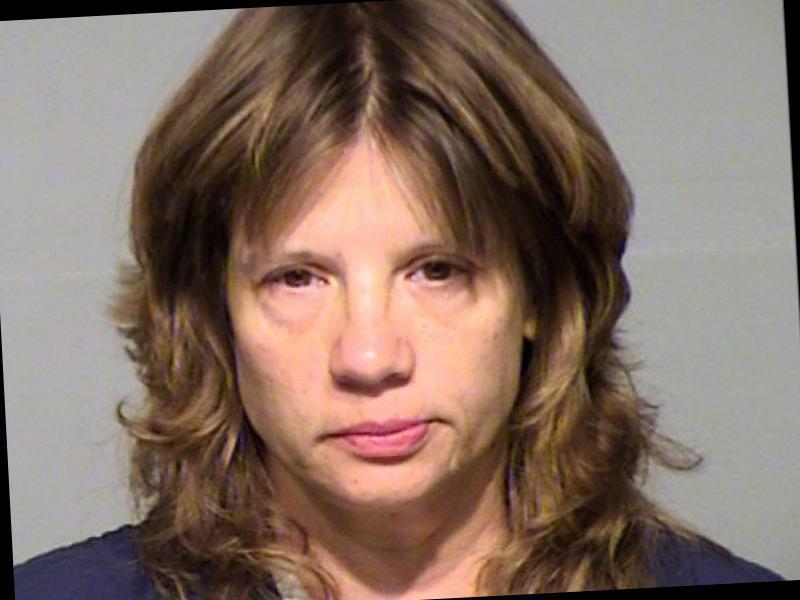Drunk: (249, 149, 498, 488)
